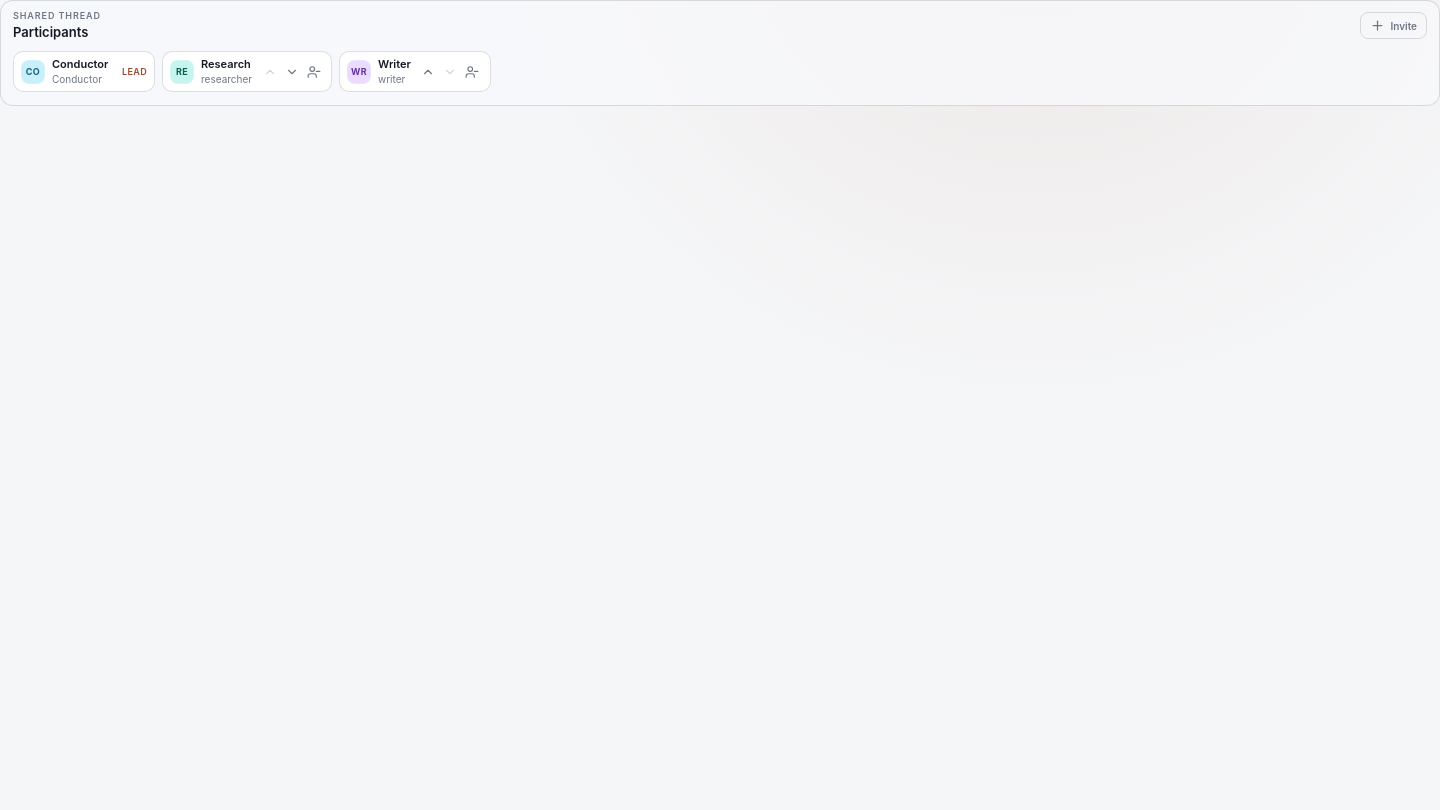
it: GroupParticipantStrip › invites from the project roster and removes a participant through the scoped routes
This screenshot has width=1440, height=810.
Click the button with aria-label "Invite teammate" at (1394, 26), box [1360, 12, 1427, 39]
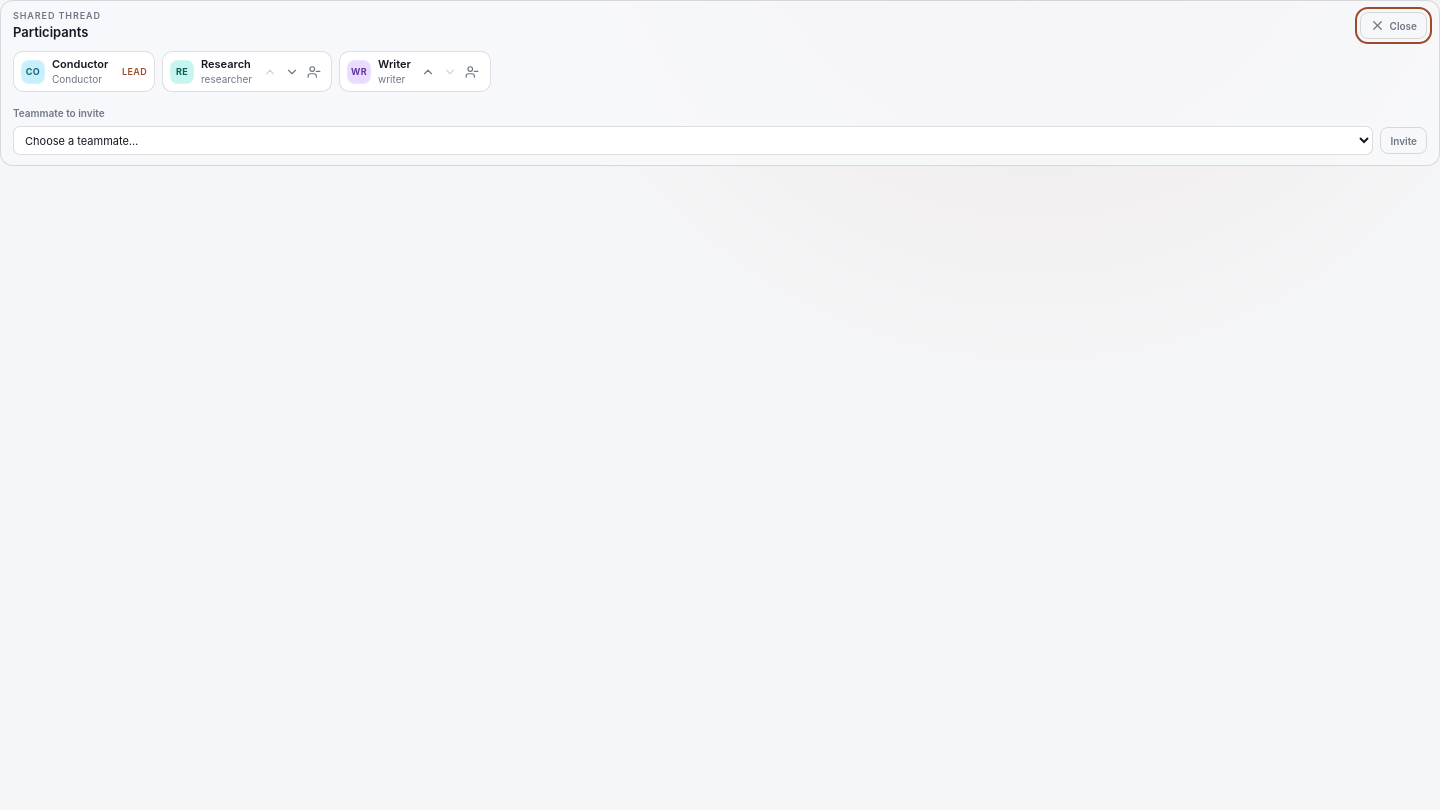
Select "Planning" in the dropdown labelled "Teammate to invite" at (693, 141), box [13, 126, 1373, 155]
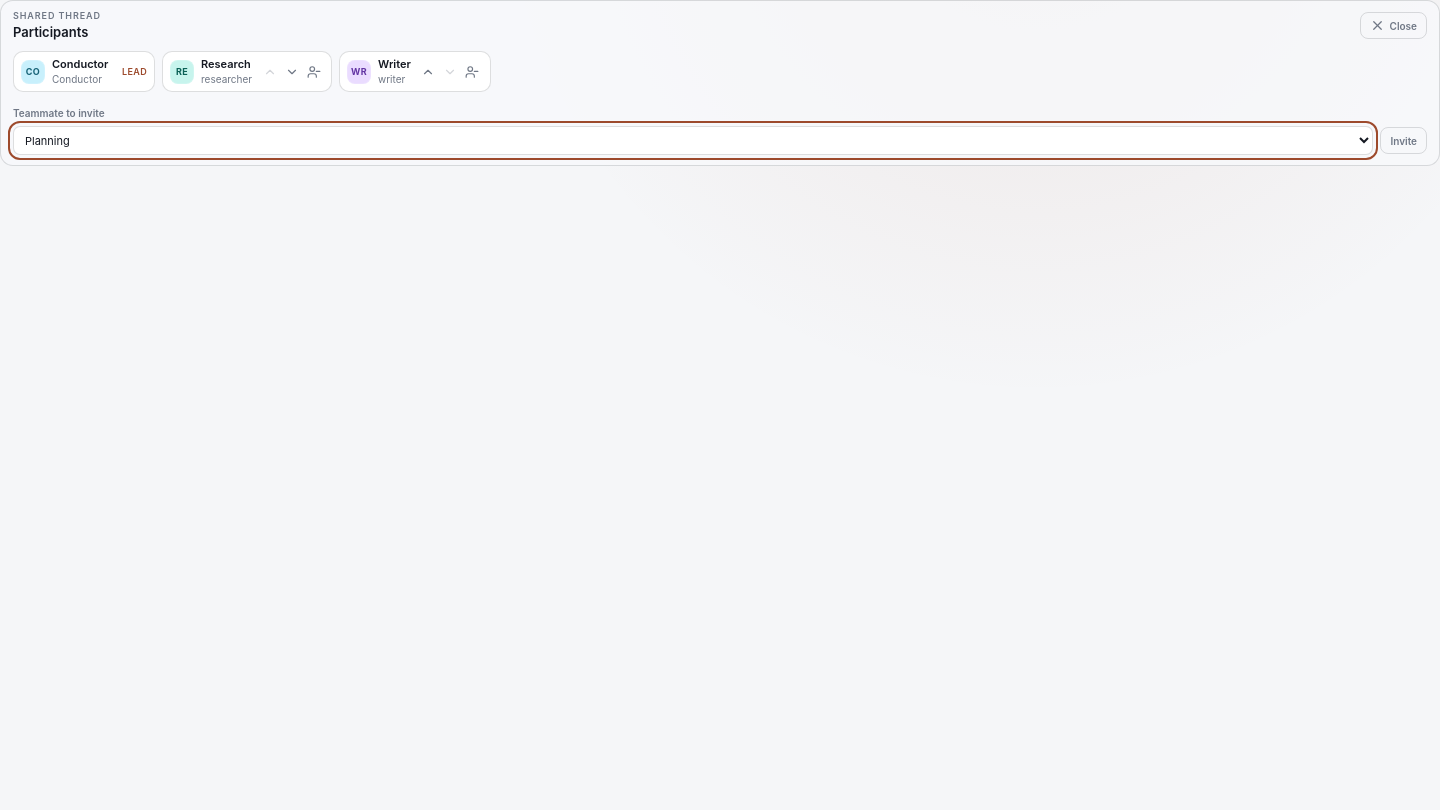
Click the button "Invite" at (1404, 141), box [1380, 127, 1427, 154]
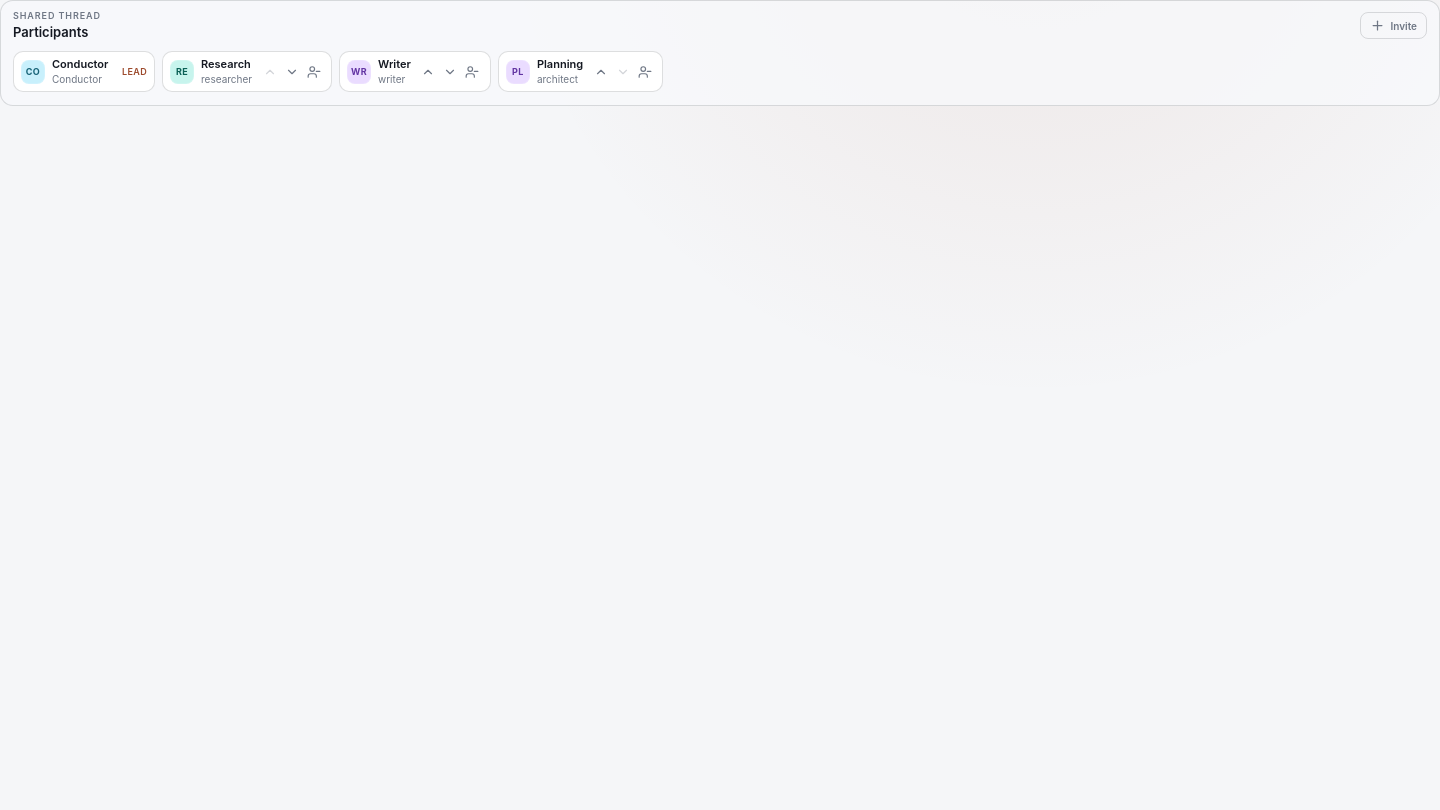
Result: the text "Planning" is shown at [537, 58, 583, 71]
Click the button named "Remove Research" at (314, 72), box [303, 61, 324, 82]
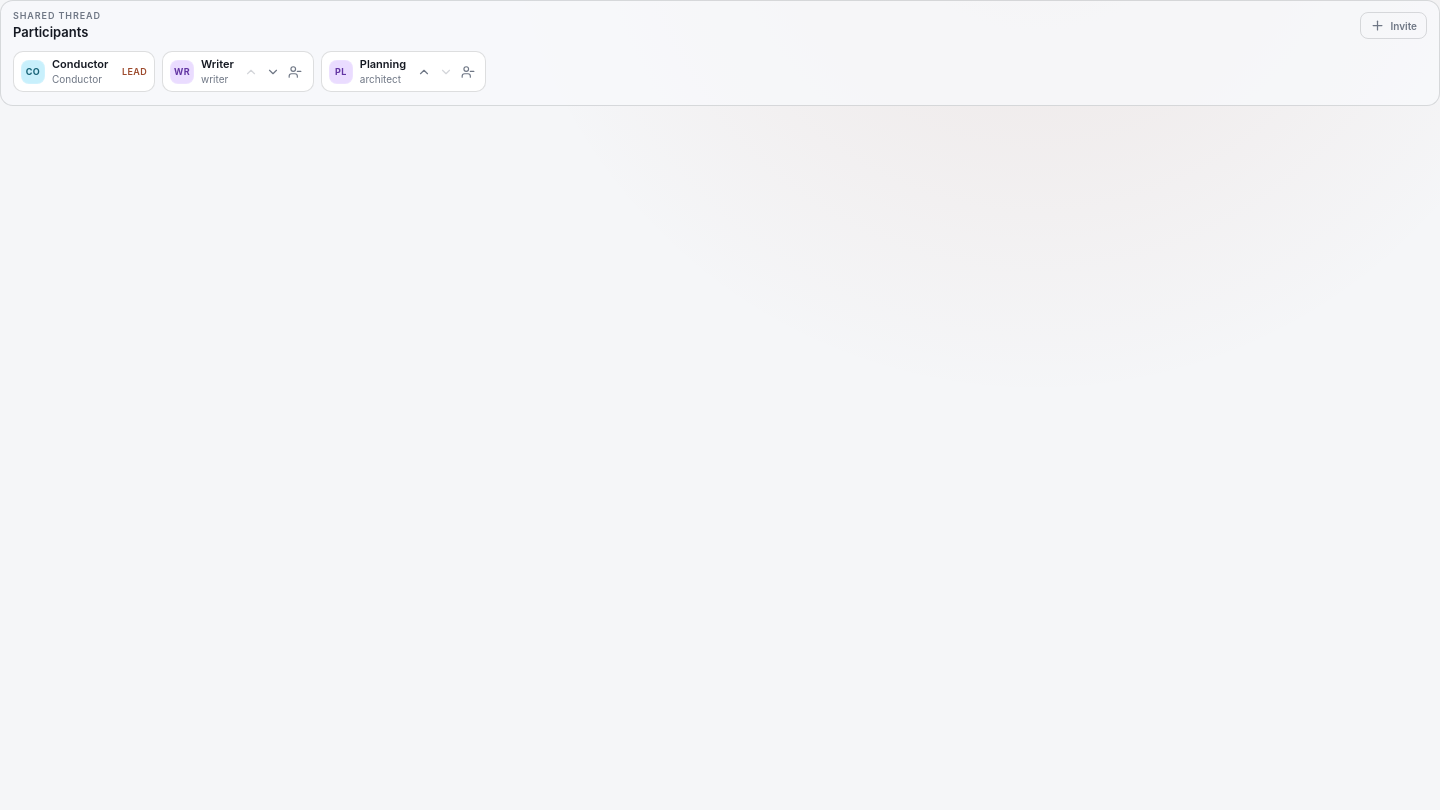
Result: the text "Research" is gone
